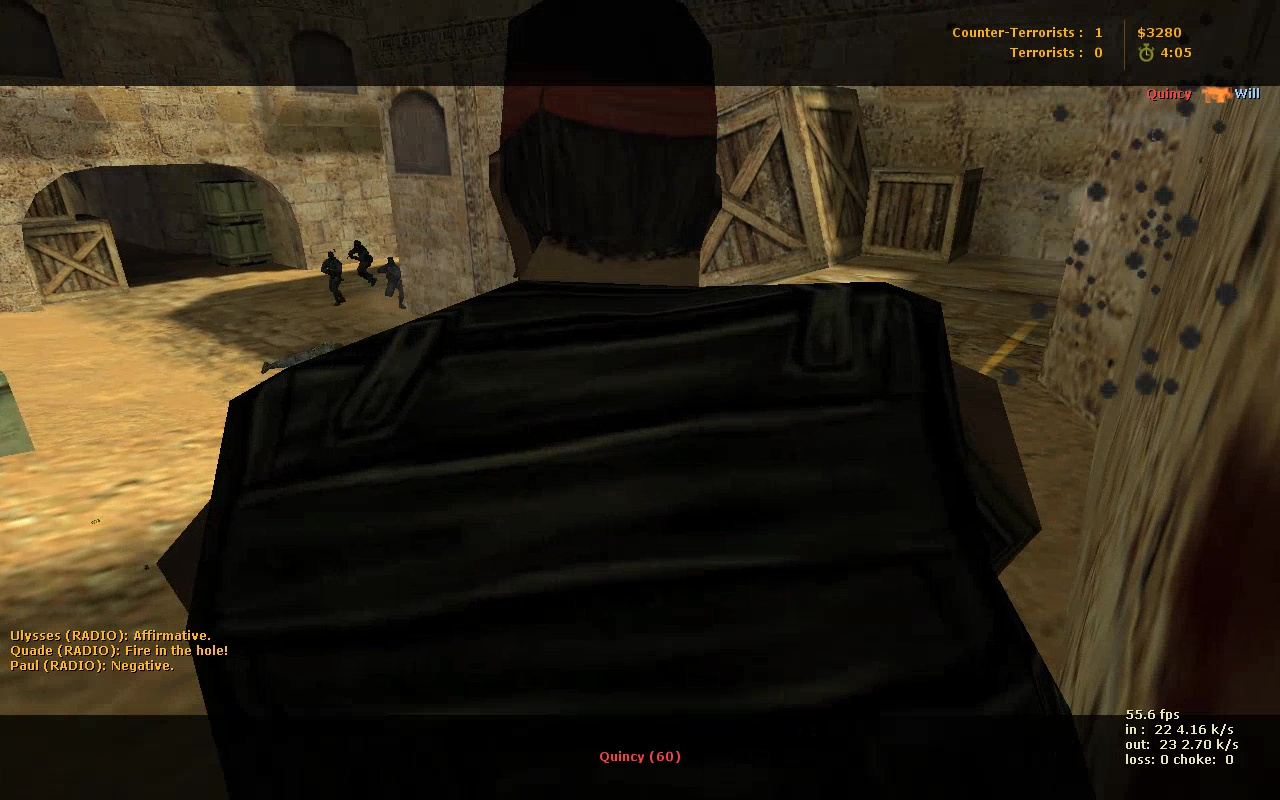ct: (320, 247, 346, 308), (348, 240, 379, 287), (384, 258, 408, 309)
